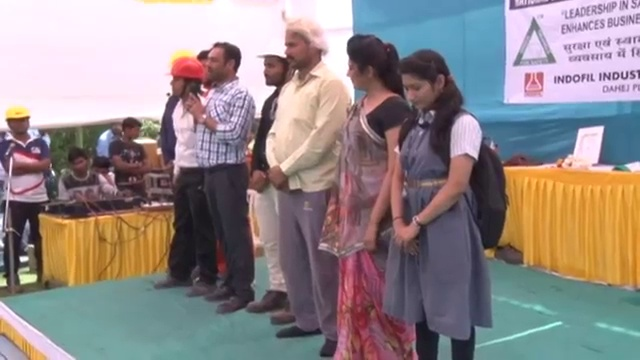helmet: (164, 49, 207, 85), (253, 41, 285, 61), (3, 104, 34, 124)
helmet_off: (395, 47, 455, 116), (340, 32, 399, 101), (277, 20, 327, 71), (197, 42, 242, 87), (68, 148, 88, 177), (89, 155, 112, 180), (121, 120, 142, 144), (110, 120, 123, 136)
helmet_on: (163, 53, 208, 103), (254, 41, 285, 89), (3, 104, 33, 141)
person: (388, 44, 511, 360), (328, 31, 418, 359), (269, 14, 351, 356), (187, 41, 255, 316), (153, 50, 214, 304), (245, 37, 294, 324), (0, 104, 47, 302), (59, 146, 117, 203), (109, 118, 151, 193), (94, 119, 123, 158)
